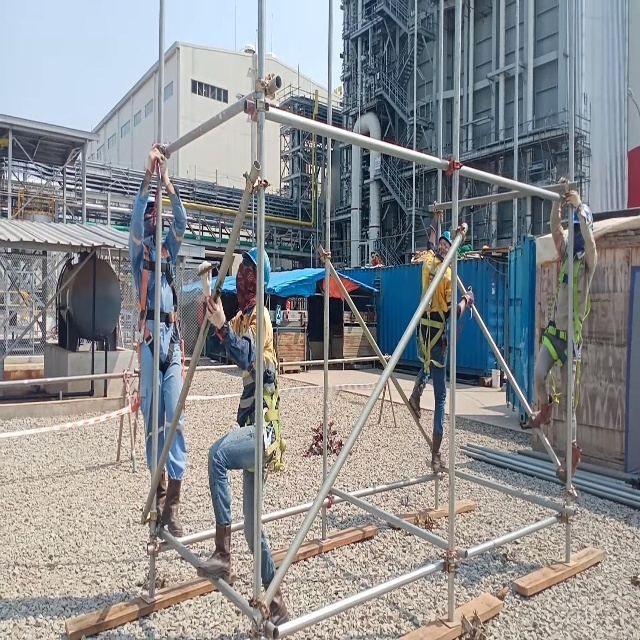Arnes_seguridad: (234, 304, 286, 483), (540, 245, 589, 418), (136, 238, 191, 389), (415, 249, 452, 380)
